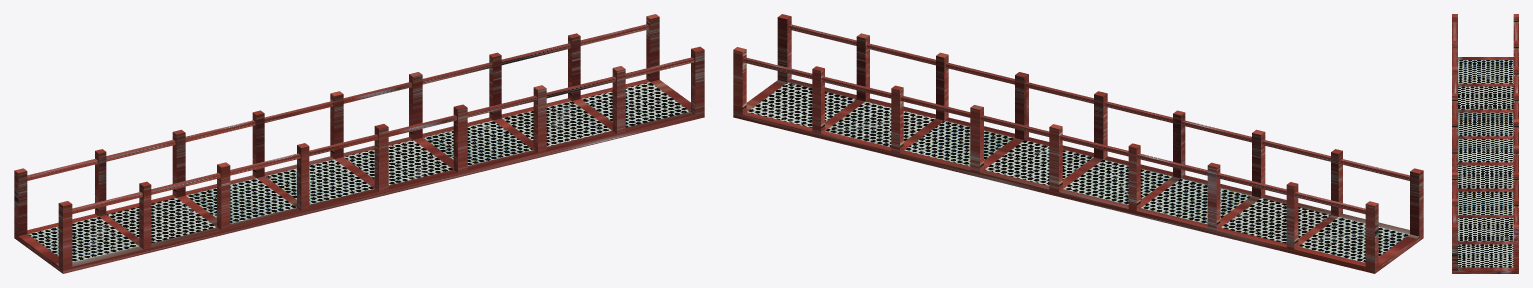
The model's file is Bridge_Dam.fbx.
3 views of the same model, side by side, from view 1: azimuth 30°, elevation 25°; view 2: azimuth 150°, elevation 25°; view 3: azimuth 270°, elevation 25° (orthographic). The views are drawn at different scales.
Parts seen in each view (by area): view 1: Bridge_Dam; view 2: Bridge_Dam; view 3: Bridge_Dam.
Part boxes in pixels (box(x1,y1,x2,y2)): Bridge_Dam: box(14, 14, 704, 273); Bridge_Dam: box(733, 14, 1423, 273); Bridge_Dam: box(1452, 14, 1518, 273).
Bounding box in the file's own units: 3295 × 332 × 435.
